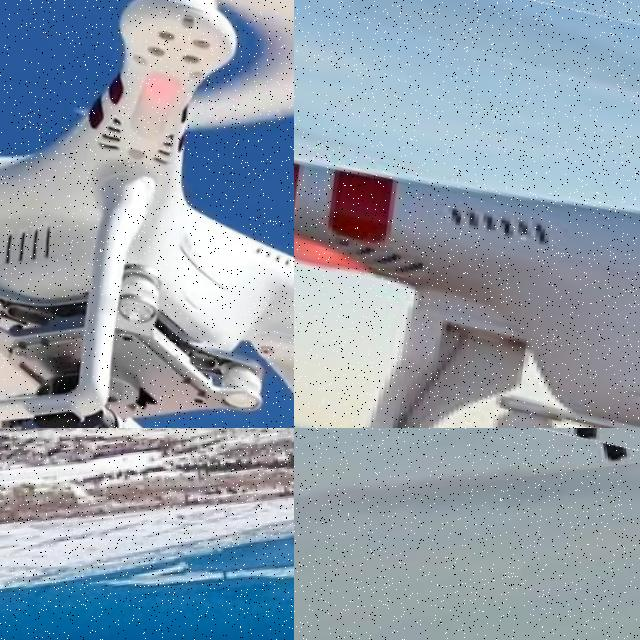0: (294, 0, 640, 428)
drone: (0, 0, 294, 428)
